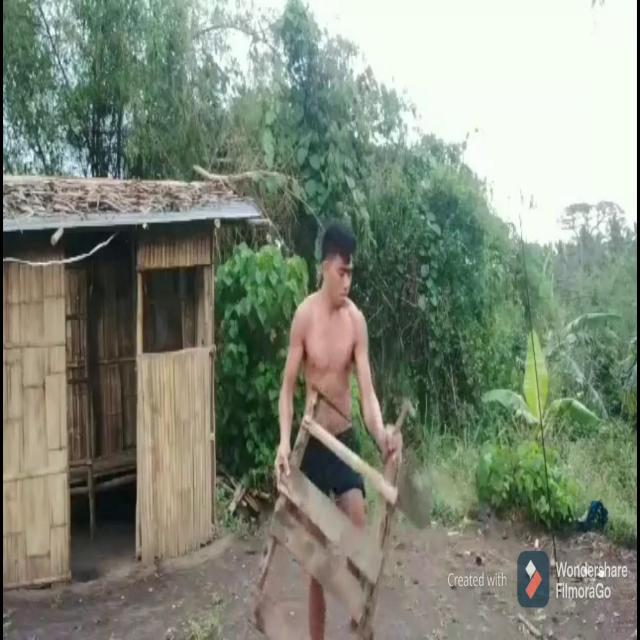hammer: (380, 396, 416, 466)
